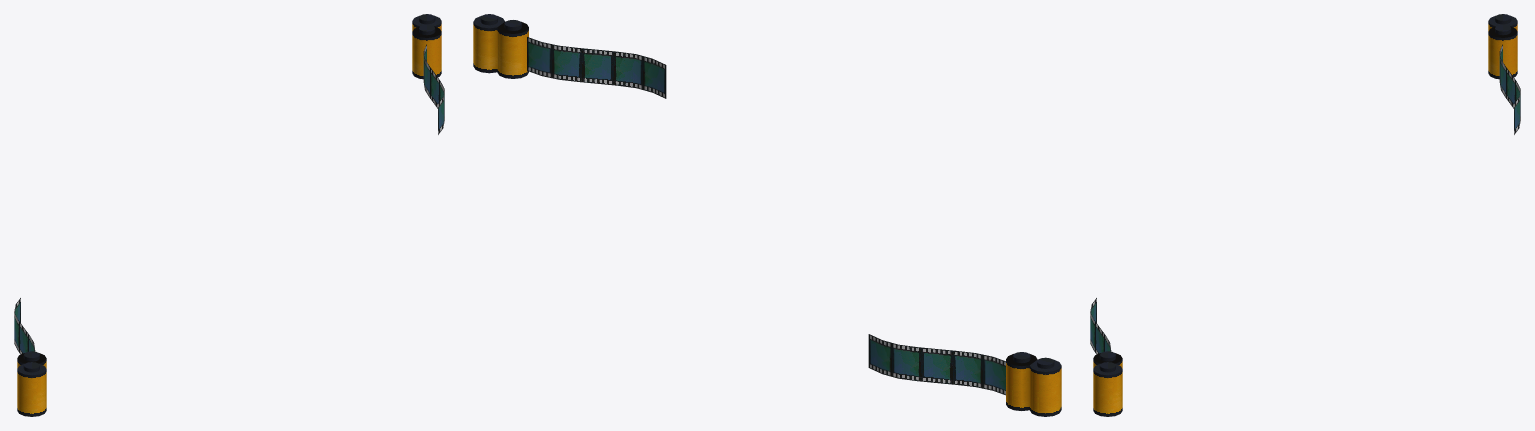
File: filmrllprop01_lvs.obj
3 views of the same model, side by side, from view 1: azimuth 90°, elevation 25°; view 2: azimuth 150°, elevation 25°; view 3: azimuth 270°, elevation 25° (orthographic). The views are drawn at different scales.
Parts seen in each view (by area): view 1: filmrllprop01_lvs; view 2: filmrllprop01_lvs; view 3: filmrllprop01_lvs.
Boxes of the visible parts, bbox=[...] form: filmrllprop01_lvs: bbox=[14, 14, 444, 416]; filmrllprop01_lvs: bbox=[473, 14, 1061, 416]; filmrllprop01_lvs: bbox=[1090, 14, 1520, 416].
Bounding box in the file's own units: 79.09 × 4.63 × 39.89.
Materials: 3 (3 with a texture image).
